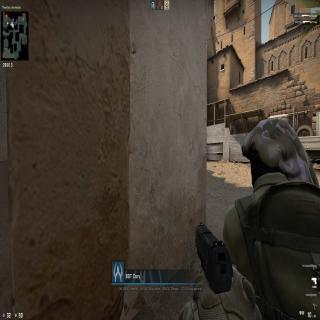CT-Head: (238, 106, 320, 191)
